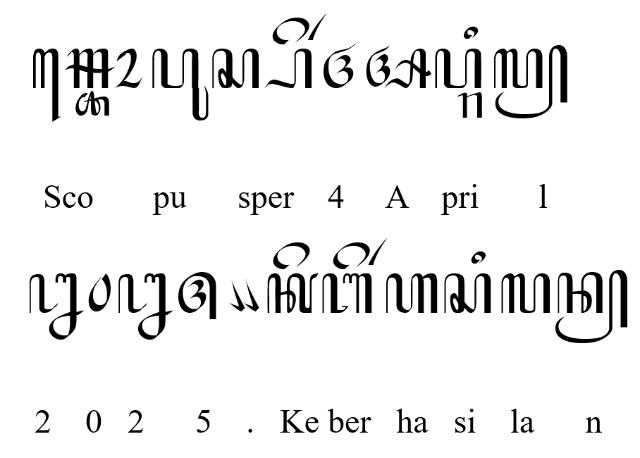-l: (494, 44, 568, 119)
-n: (554, 268, 628, 344)
0: (88, 274, 112, 312)
4: (322, 42, 358, 88)
5: (178, 272, 218, 320)
A: (365, 44, 431, 90)
K: (266, 272, 318, 314)
S: (65, 48, 115, 88)
_c: (76, 89, 110, 116)
_p: (263, 48, 313, 88)
_r1: (308, 12, 328, 41), (367, 237, 387, 265)
b: (321, 272, 373, 314)
e: (332, 240, 372, 270), (272, 241, 312, 270), (270, 17, 310, 45)
e1: (32, 48, 62, 122)
h: (385, 272, 439, 314)
i: (470, 249, 488, 265), (463, 26, 479, 40)
kom: (228, 280, 246, 312), (243, 280, 259, 312)
l: (501, 273, 552, 315)
ngna: (28, 272, 84, 340), (117, 272, 173, 340)
o: (113, 47, 143, 89)
p: (435, 47, 483, 90)
pu: (150, 47, 210, 121)
r: (457, 92, 483, 118)
s: (210, 48, 260, 89), (443, 272, 491, 314)
